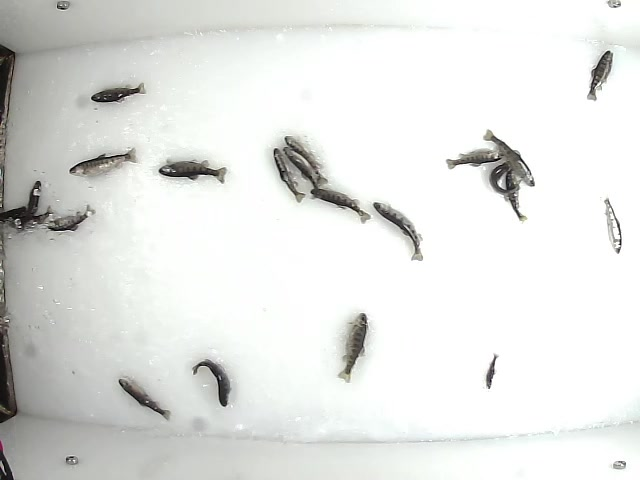fish: (482, 129, 540, 190), (371, 198, 425, 263), (336, 312, 373, 385), (116, 376, 173, 423), (306, 185, 372, 225), (282, 133, 330, 187), (66, 144, 139, 179), (270, 144, 307, 206), (190, 357, 234, 408), (156, 158, 230, 186), (280, 144, 323, 192), (442, 145, 510, 171), (44, 203, 101, 234), (504, 156, 529, 223), (584, 47, 614, 102), (488, 156, 524, 199), (16, 180, 44, 232), (87, 82, 149, 105), (602, 196, 624, 254), (483, 352, 501, 391), (20, 207, 53, 227)
